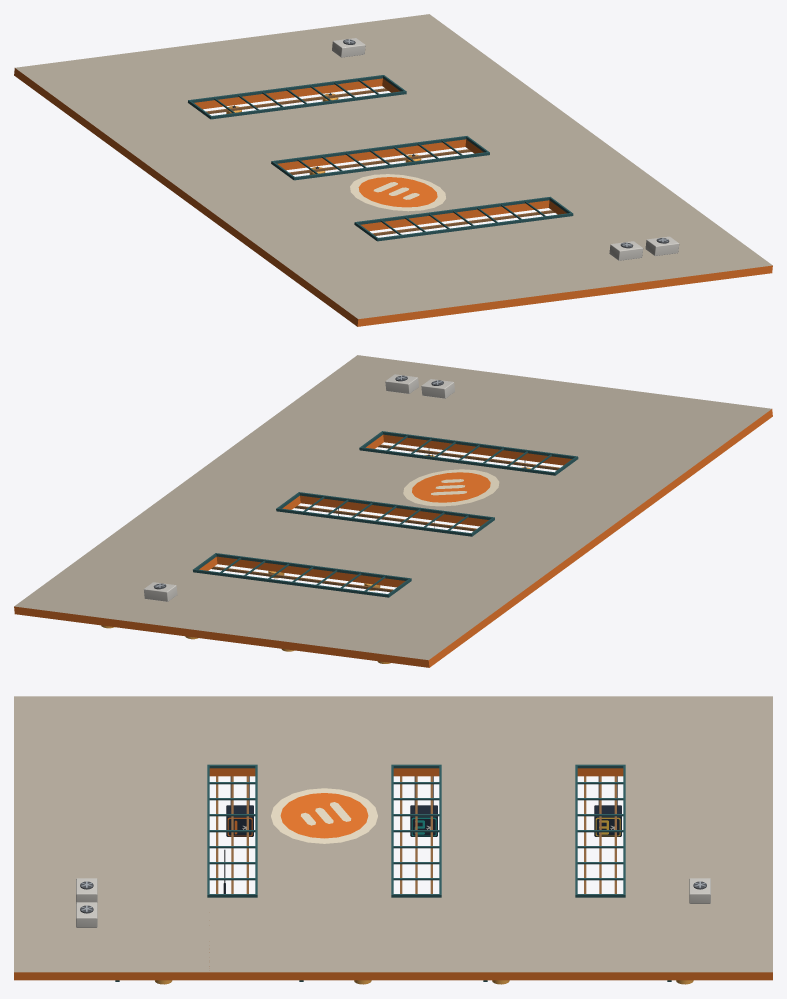
File: LobbyTecho.fbx
3 renders of one model, top to bottom at view 1: azimuth 30°, elevation 25°; view 2: azimuth 150°, elevation 25°; view 3: azimuth 270°, elevation 25°, orthographic. The views are drawn at different scales.
Visible parts, largest first — view 1: LobbyTecho; view 2: LobbyTecho; view 3: LobbyTecho.
Part boxes in pixels (box(x1,y1,x2,y2)): LobbyTecho: box(14, 14, 772, 326); LobbyTecho: box(14, 355, 772, 667); LobbyTecho: box(14, 696, 772, 984).
Bounding box in the file's own units: 69.13 × 14.43 × 99.
Materials: 1 (1 with a texture image).
